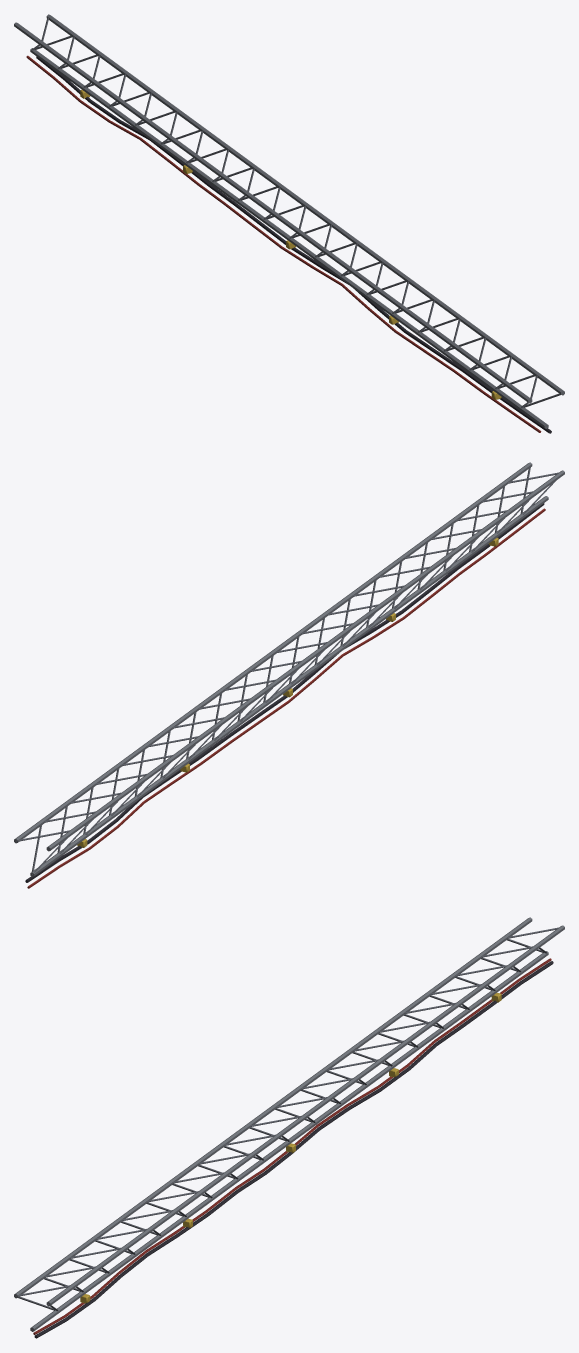
File: truss.glb
The picture shows the model from 3 angles, top to bottom: view 1: azimuth 30°, elevation 25°; view 2: azimuth 150°, elevation 25°; view 3: azimuth 330°, elevation 25°; orthographic projection.
Visible parts, largest first — view 1: truss; view 2: truss; view 3: truss.
Part boxes in pixels (x1,y1,x2,y2): truss: [14, 14, 564, 433]; truss: [14, 462, 564, 888]; truss: [14, 917, 564, 1338].
Bounding box in the file's own units: 0.492 × 0.5743 × 12.11.
